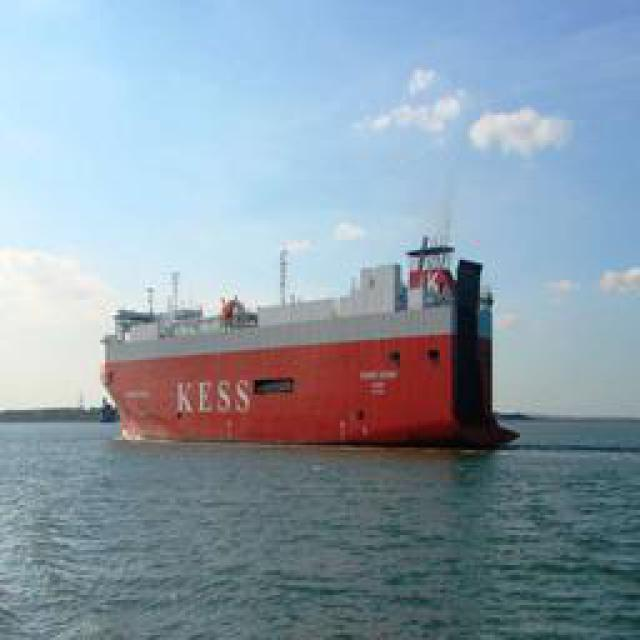Ship: (97, 224, 500, 454)
